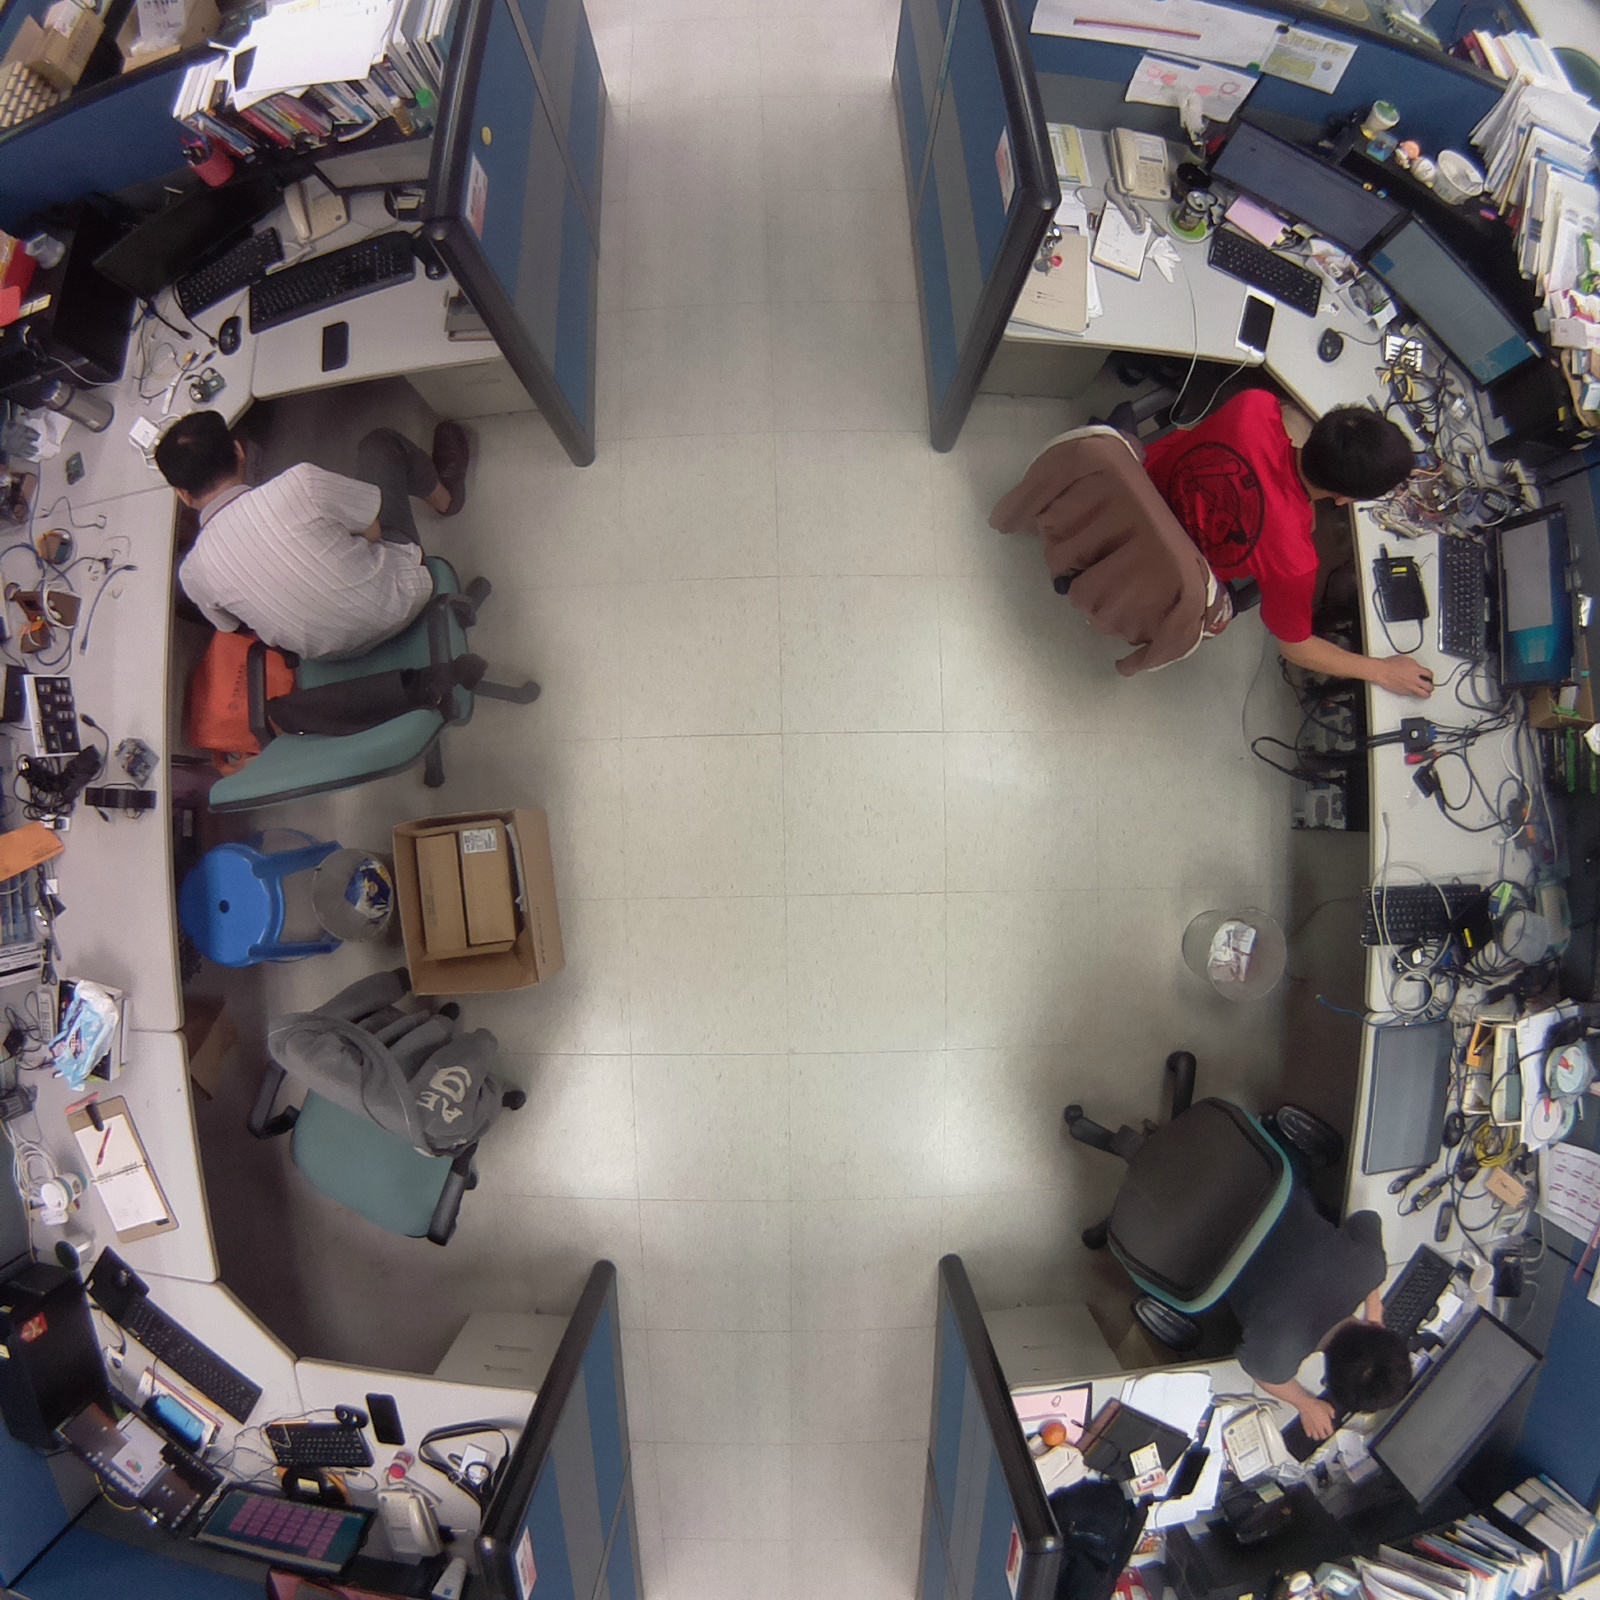chair: (232, 958, 550, 1263)
head: (1301, 400, 1421, 510), (1315, 1318, 1423, 1422), (152, 406, 258, 506)
sitting: (133, 406, 568, 822), (963, 372, 1440, 732), (1047, 1032, 1418, 1447)
